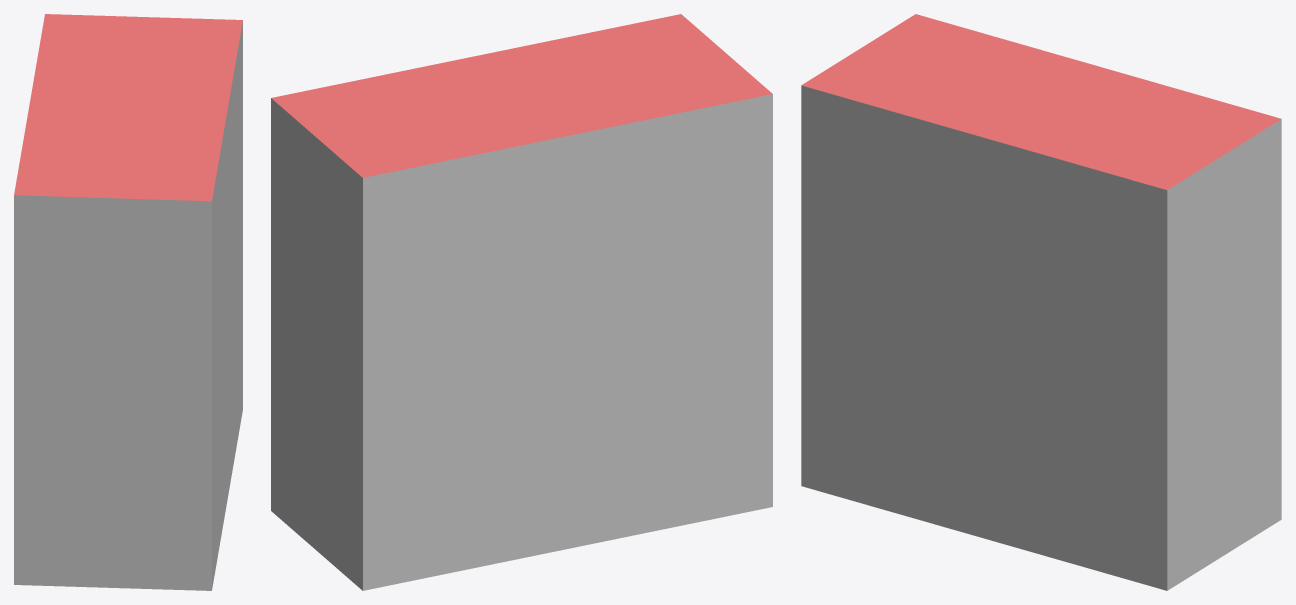
3 views of the same model, side by side, from view 1: azimuth 30°, elevation 25°; view 2: azimuth 150°, elevation 25°; view 3: azimuth 270°, elevation 25° (orthographic). The views are drawn at different scales.
Visible parts, largest first — view 1: Z_UP; view 2: Z_UP; view 3: Z_UP.
Boxes of the visible parts, x1,y1,x2,y2 form: Z_UP: (14,14,242,590); Z_UP: (271,14,772,590); Z_UP: (801,14,1281,590).
Size of the model in its own units: 12.26 by 13 by 14.13.
